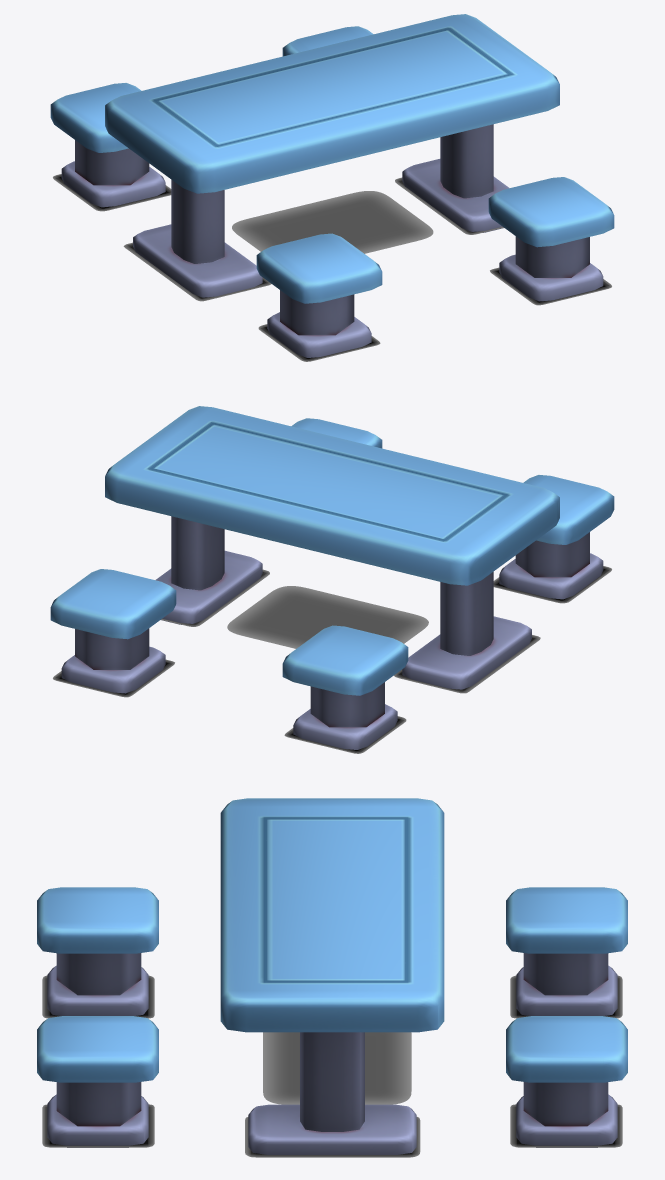
Rendered from Mesh_Item_01_SocialTable.FBX.
The picture shows the model from 3 angles, top to bottom: view 1: azimuth 30°, elevation 25°; view 2: azimuth 150°, elevation 25°; view 3: azimuth 270°, elevation 25°; orthographic projection. The views are drawn at different scales.
Visible parts, largest first — view 1: Mesh_Item_01_SocialTable, Mesh_Shadow_01_SocialTable; view 2: Mesh_Item_01_SocialTable, Mesh_Shadow_01_SocialTable; view 3: Mesh_Item_01_SocialTable, Mesh_Shadow_01_SocialTable.
Part boxes in pixels (bbox=[...]): Mesh_Item_01_SocialTable: bbox=[50, 14, 614, 357]; Mesh_Shadow_01_SocialTable: bbox=[53, 174, 611, 361]; Mesh_Item_01_SocialTable: bbox=[50, 406, 614, 749]; Mesh_Shadow_01_SocialTable: bbox=[53, 566, 611, 753]; Mesh_Item_01_SocialTable: bbox=[37, 798, 627, 1154]; Mesh_Shadow_01_SocialTable: bbox=[42, 975, 622, 1157].
Size of the model in its own units: 2.07 by 0.7647 by 2.68.
Materials: 2 (2 with a texture image).
